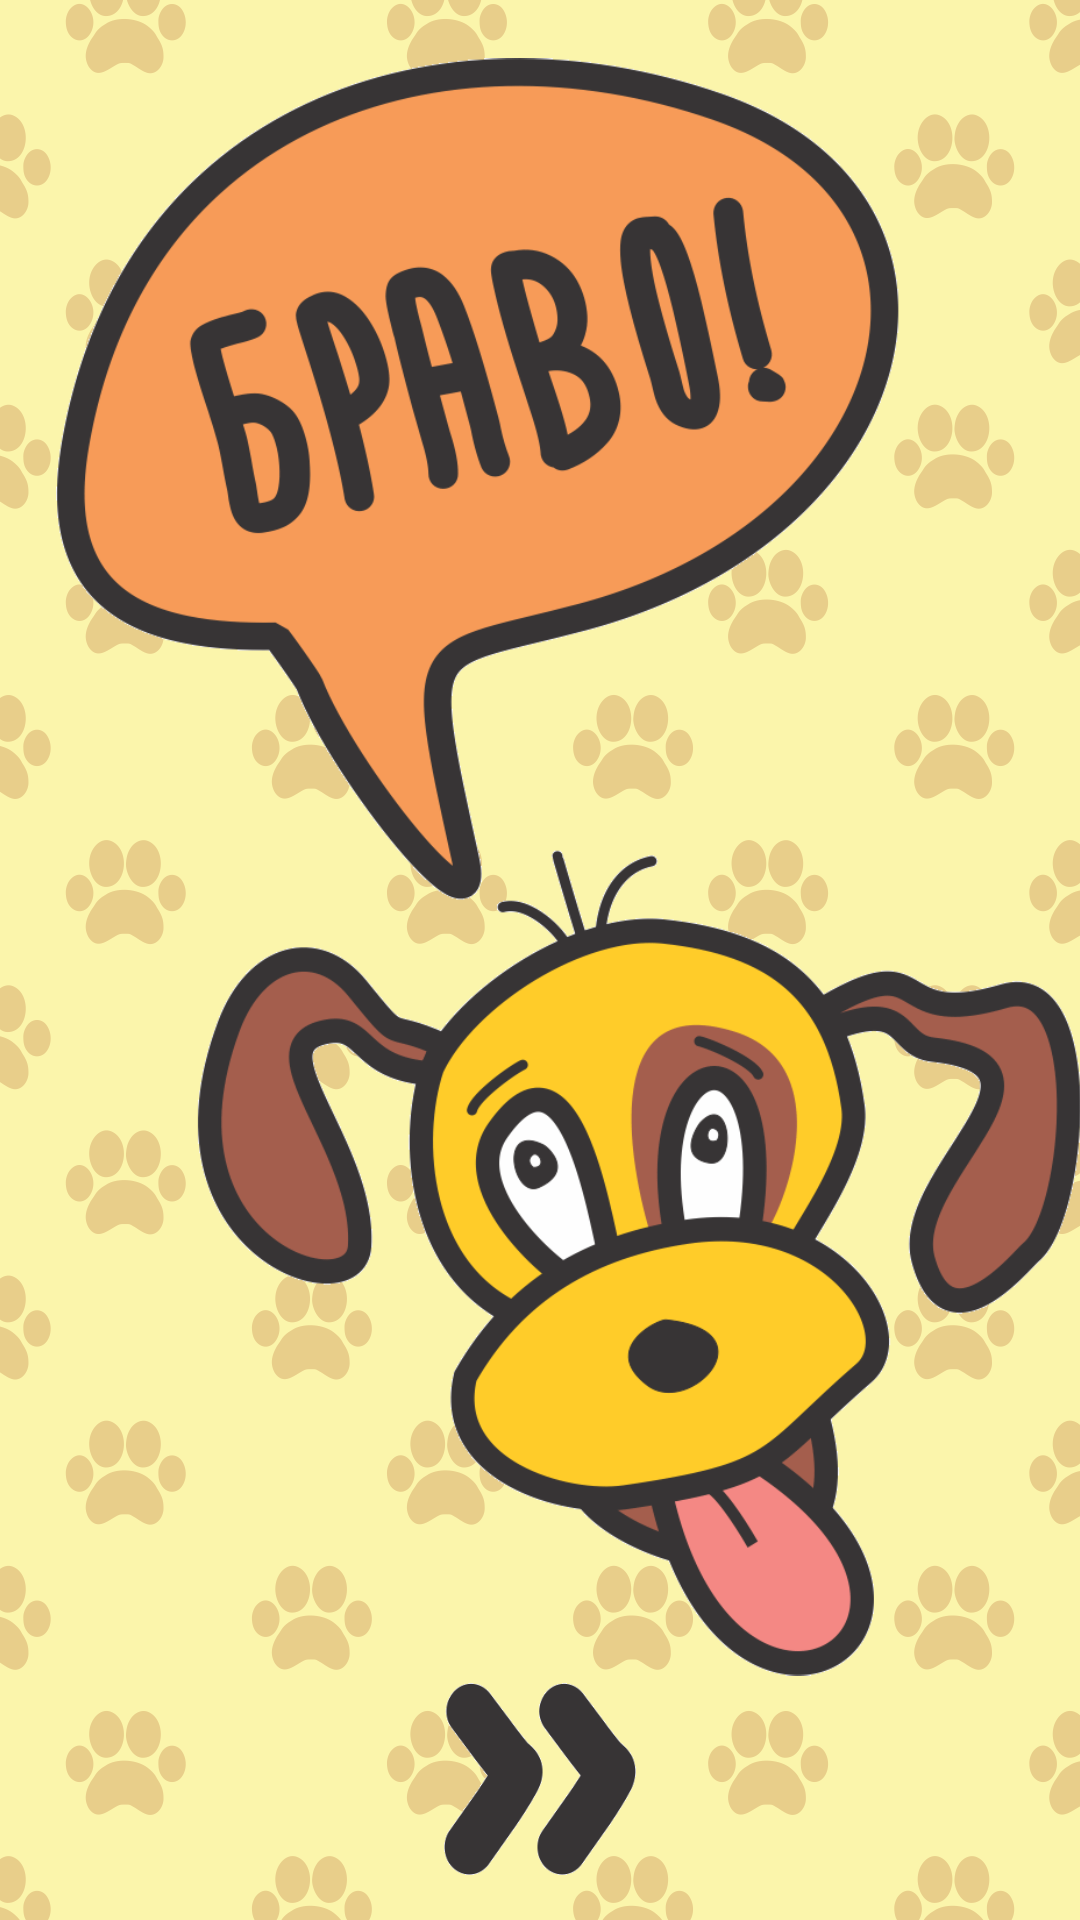

Point at icon controls on the screen. Image size 1080px x 1920px, points as point (x, y).
next: point (540, 1779)
